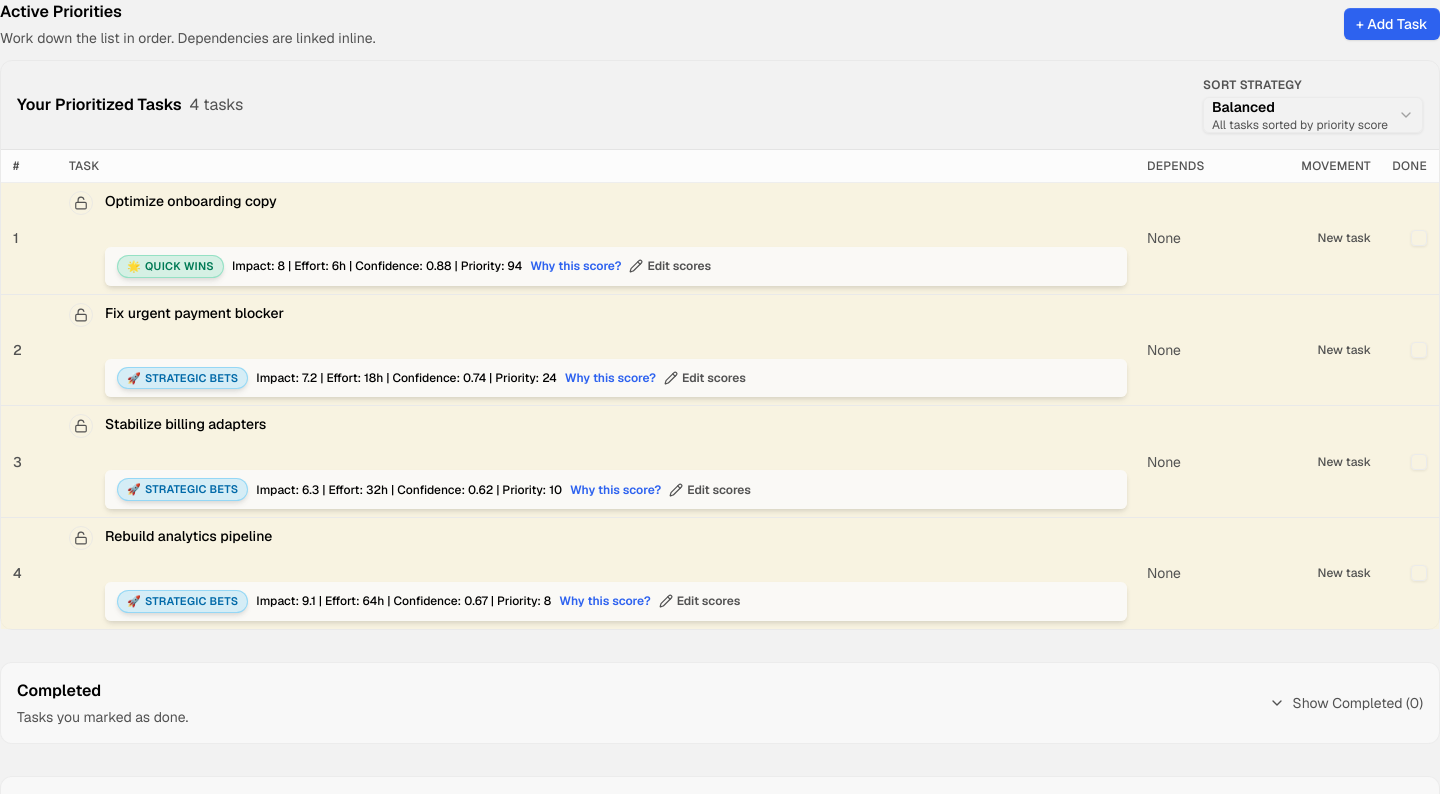
Scenario: Sorting strategies › filters tasks down to Quick Wins (≤8h effort)
The image size is (1440, 794).
Expected: the text "Optimize onboarding copy" is shown, [105,192,277,210]
Click the dropdown named "Sort Strategy": (1313,115) [1203,97,1423,133]
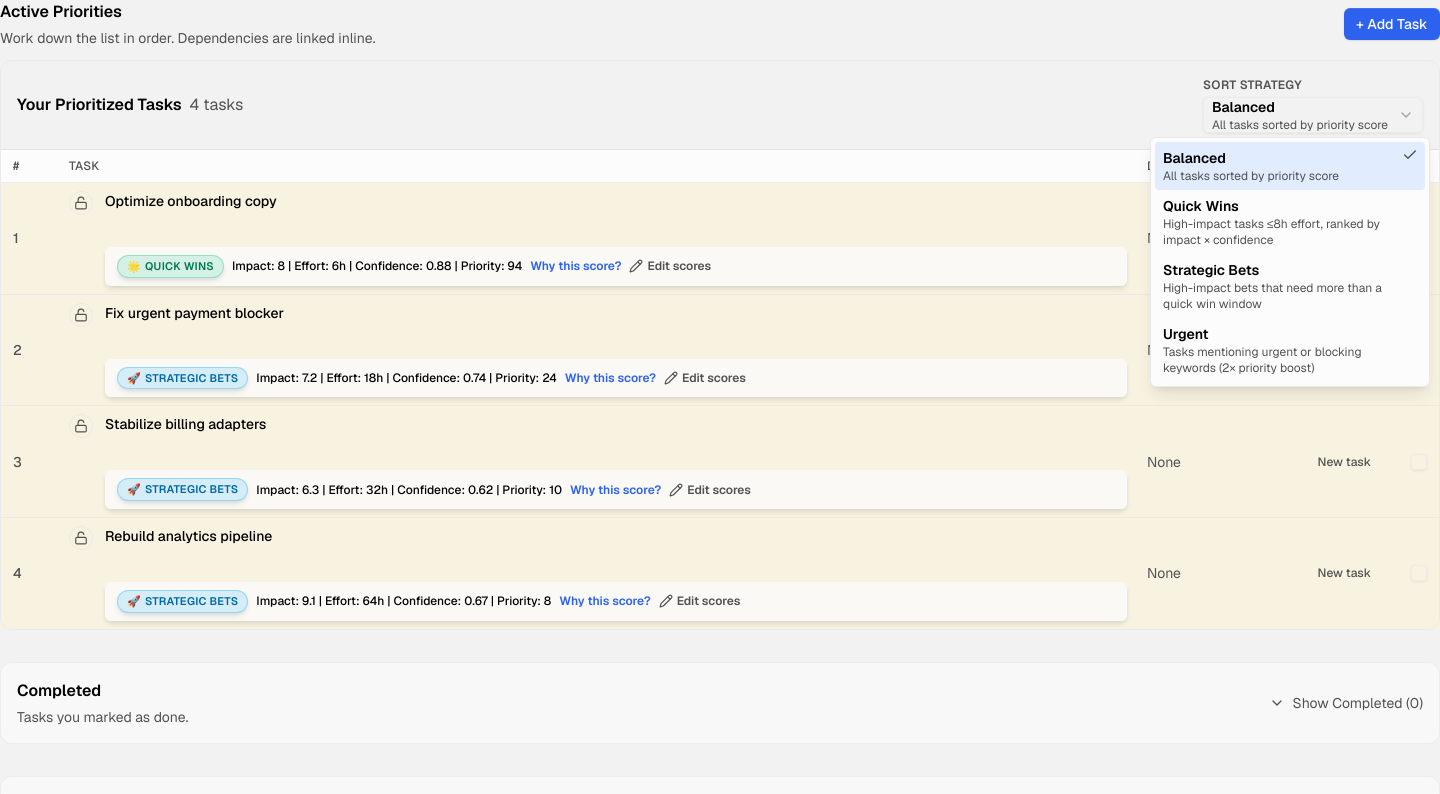
Click the option "Quick Wins": (1272,222) [1163,197,1380,248]
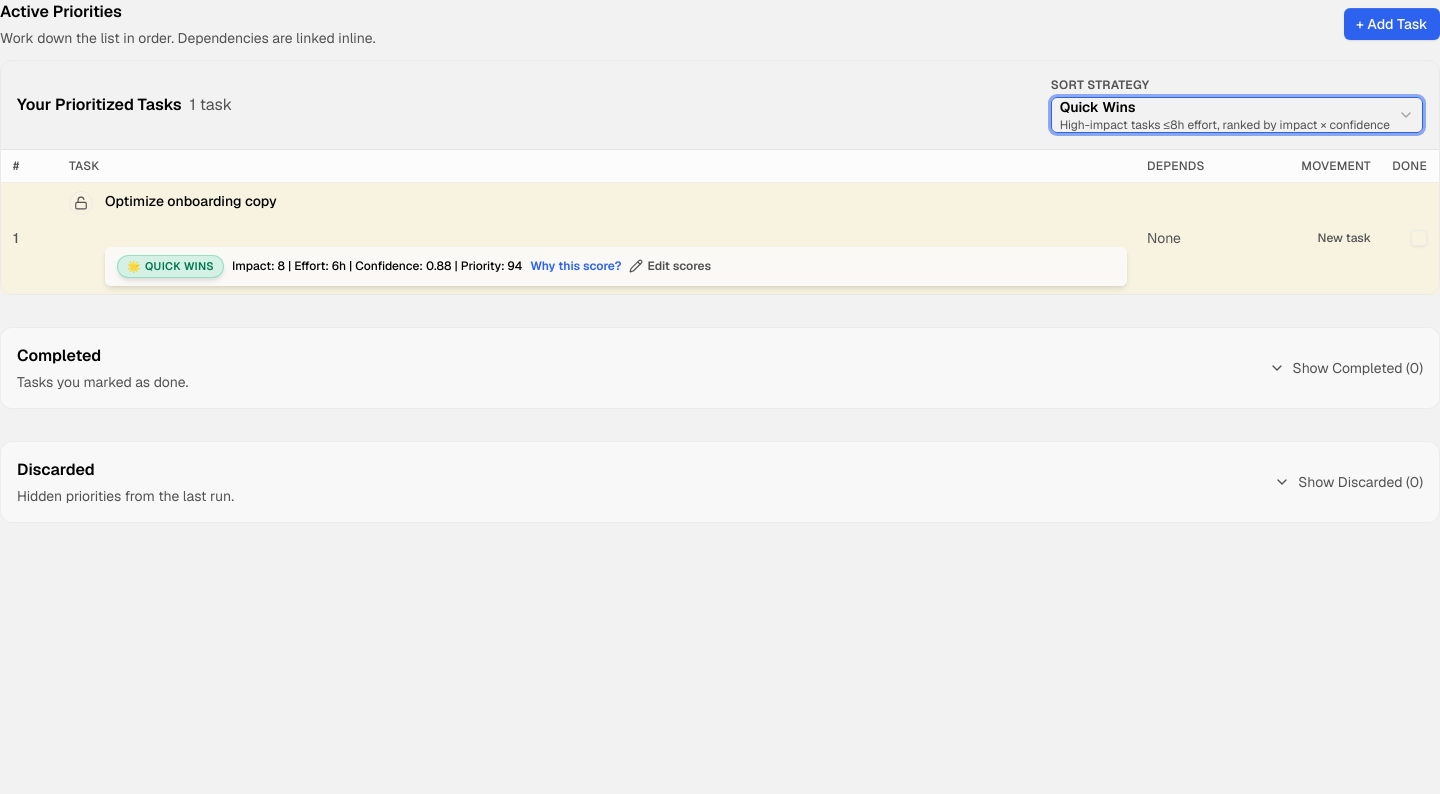
Expected: the text "Optimize onboarding copy" is shown, [105,192,277,210]
Now the button "Stabilize billing adapters" is gone
Now the button "Rebuild analytics pipeline" is gone
